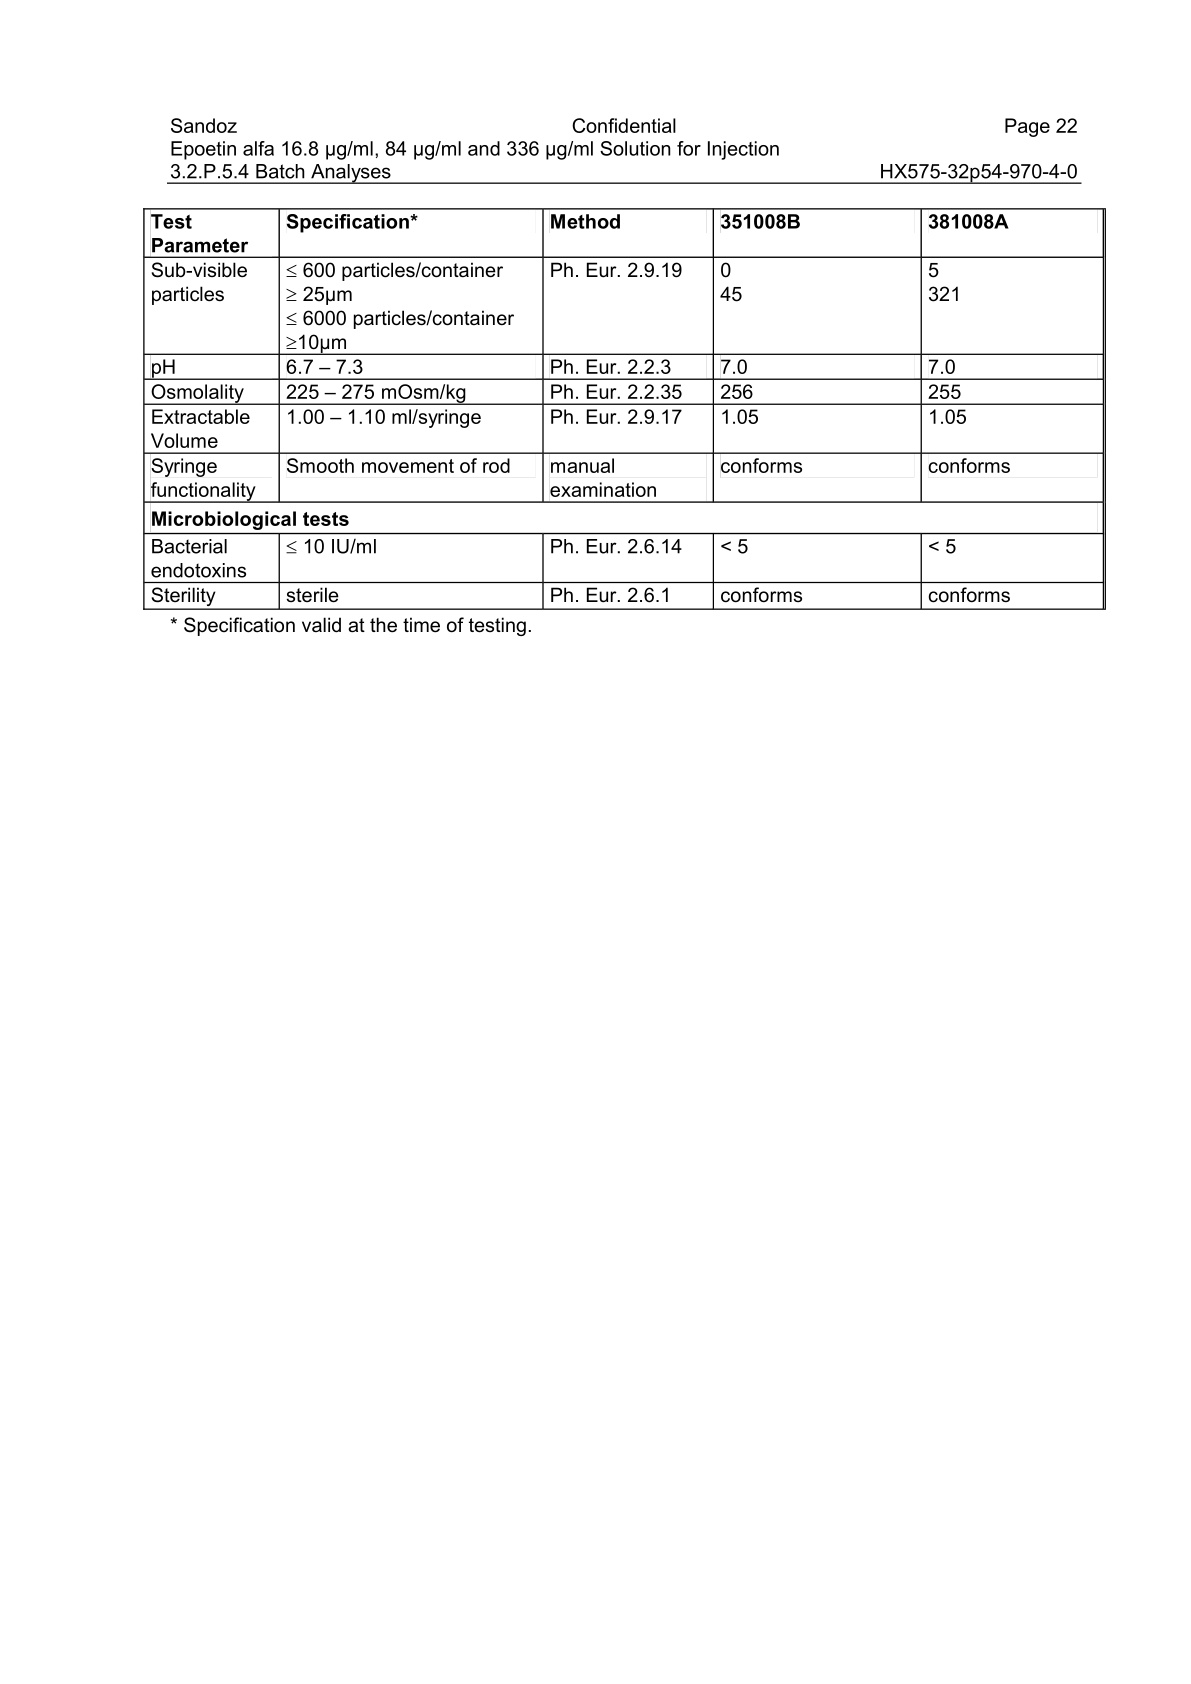merged_cells: (140, 207, 1107, 611)
